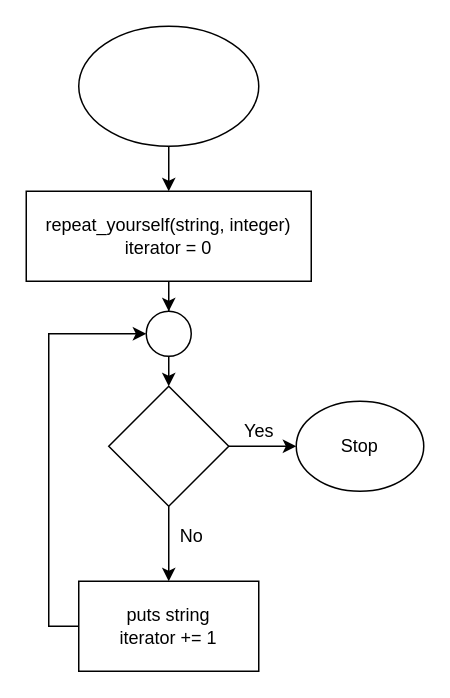
This 450x698 diagram has some shape labels left out. The centre of each missing label's shape, as x and y in pixels:
"iterator == integer?" goes at point (168, 445).
"START" goes at point (168, 85).
